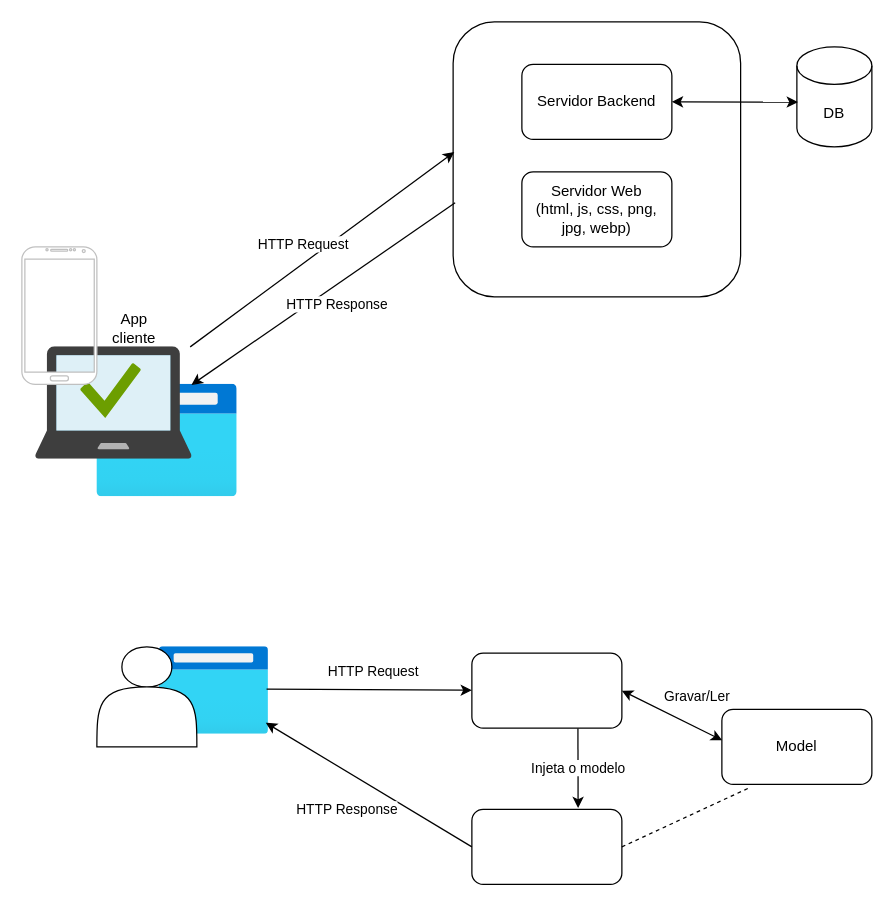
The diagram is 894 pixels wide and 906 high, and some of its shapes have lost their labels. Here are the shapes that lost their labels. From the top down, the centre of each, then its label:
(x=546, y=690): Controller
(x=546, y=846): View
